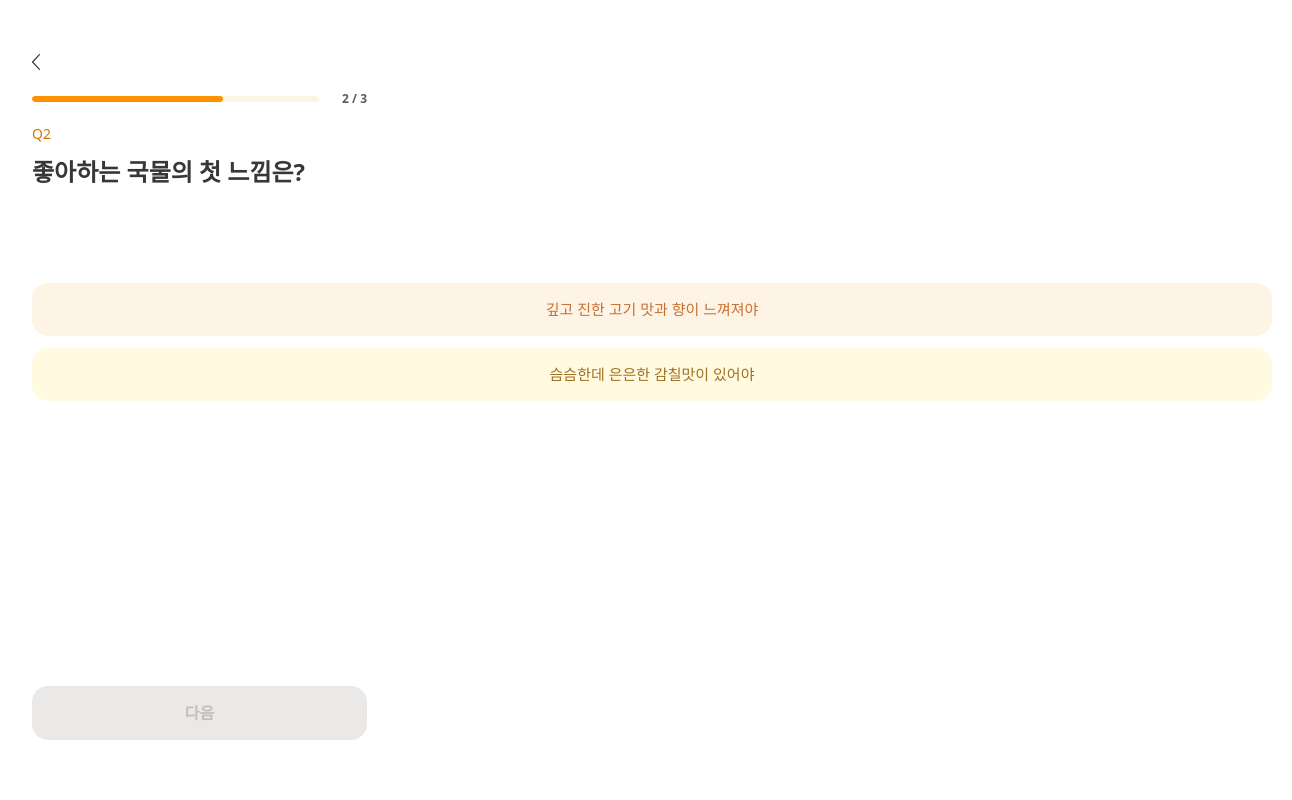
Test: 입문자 문항 플로우 › 다음을 누르면 다음 문항으로 넘어간다
The image size is (1292, 800).
Step 1. Click the button "깊고 진한 고기 맛과 향이 느껴져야" → (652, 310), box [32,283,1272,336]
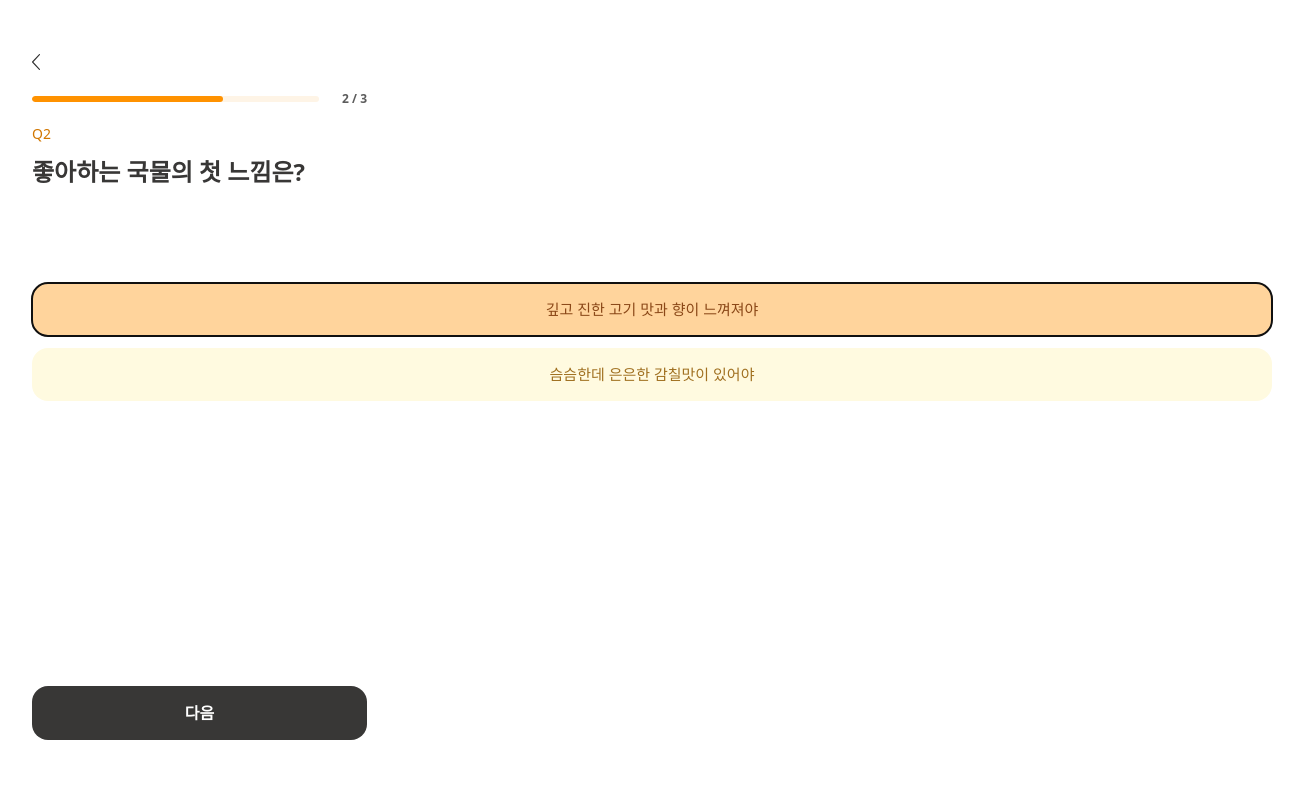
Step 2. Click the button "다음" → (200, 713), box [32,686,367,740]
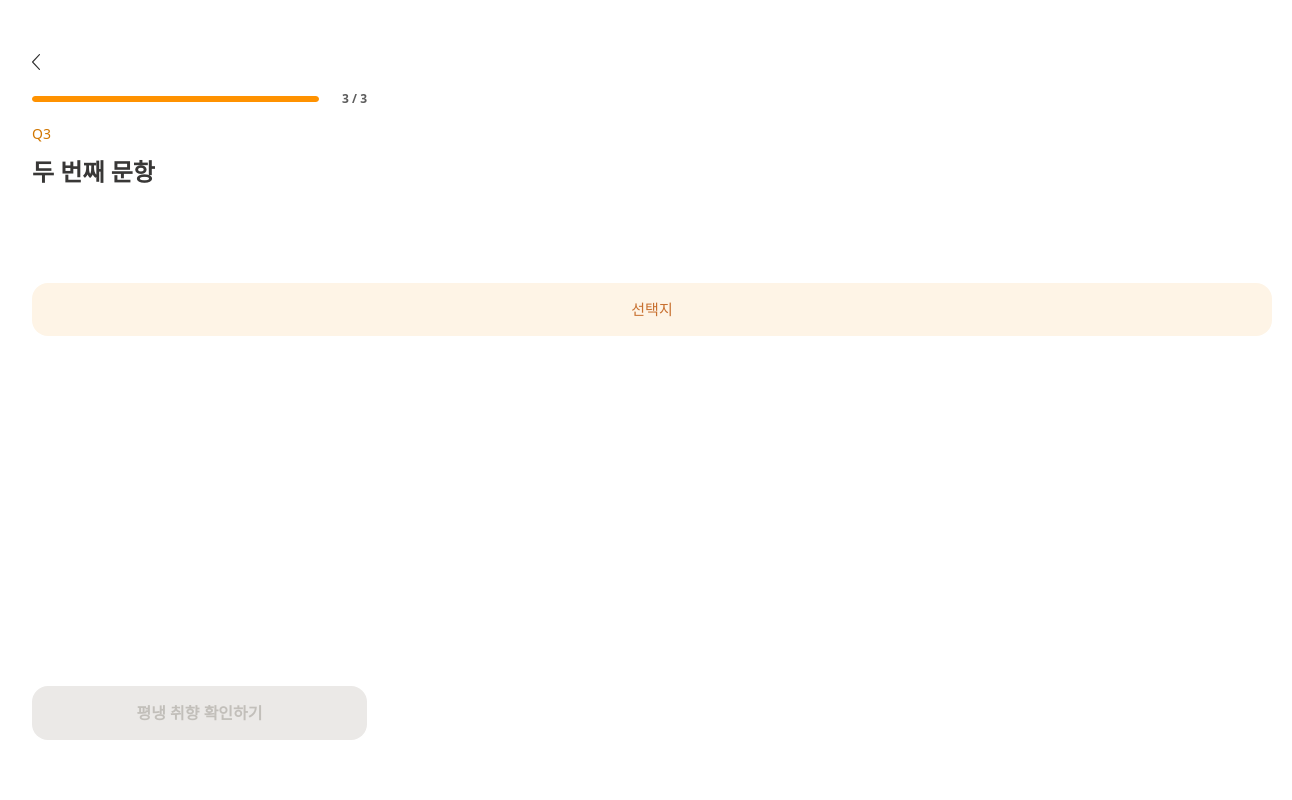
Result: the text "Q3" is shown at [32,124,51,143]
